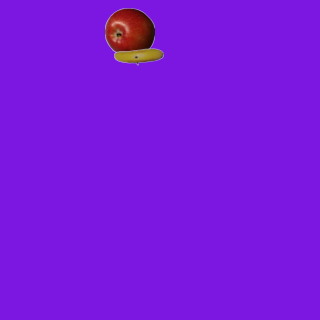Apple Braeburn: (104, 7, 154, 57)
Banana: (113, 31, 163, 81)
